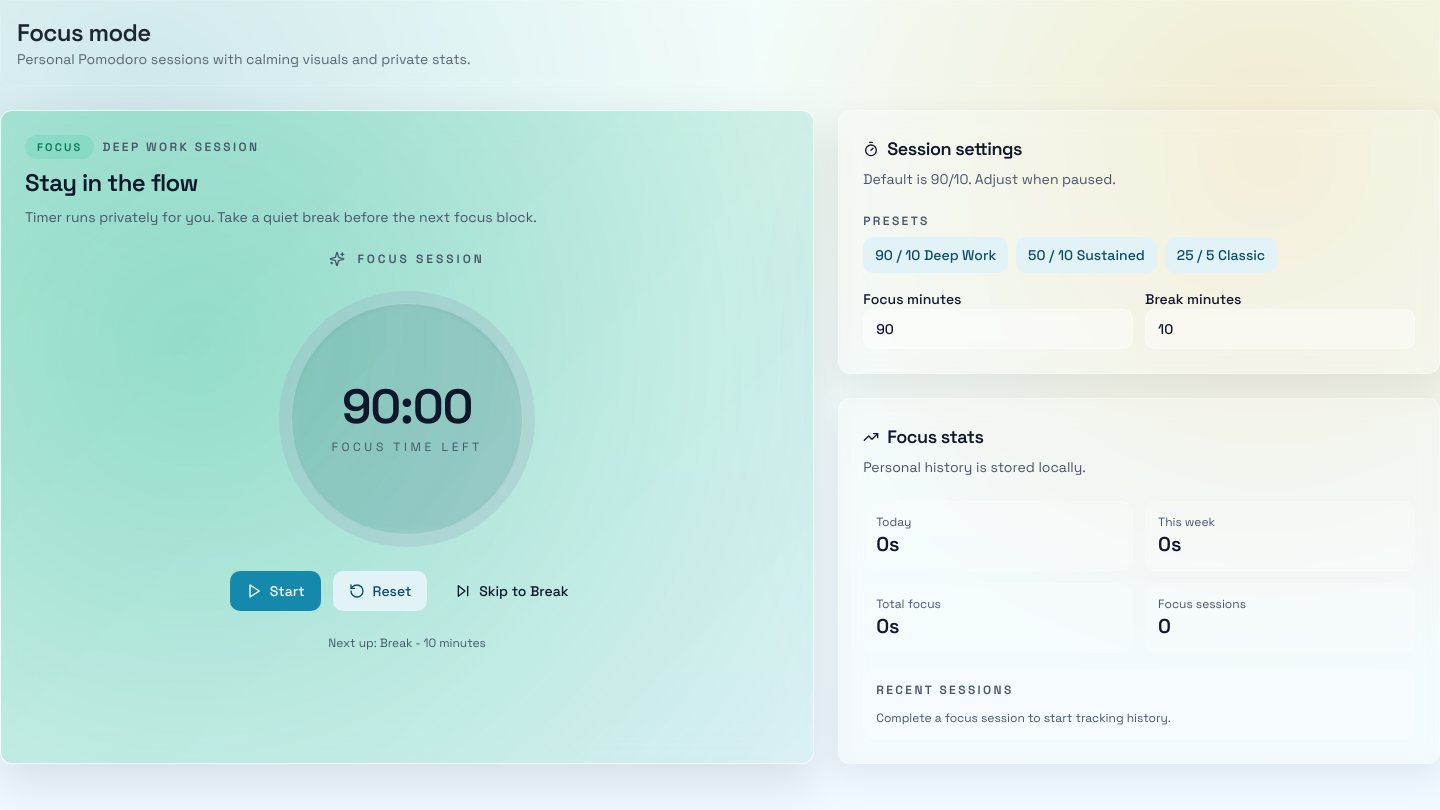
Test: FocusPage › does not duplicate completed sessions
Replace the text in the number field labelled "Focus minutes" with "1" at (998, 329), box [863,309,1133,349]
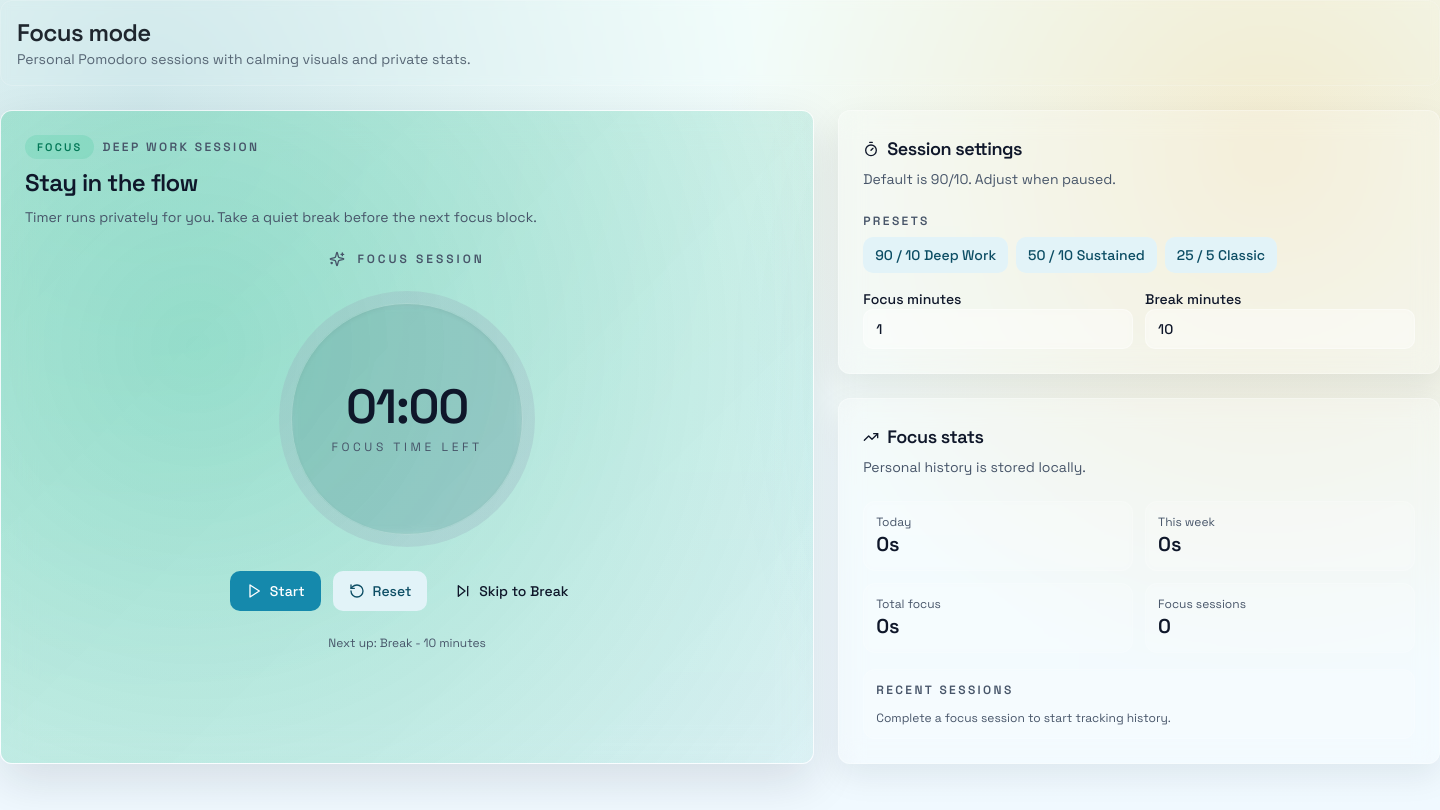
Click the button "Start".
click(275, 591)  # box [230,571,321,611]
Wait 60000 ms
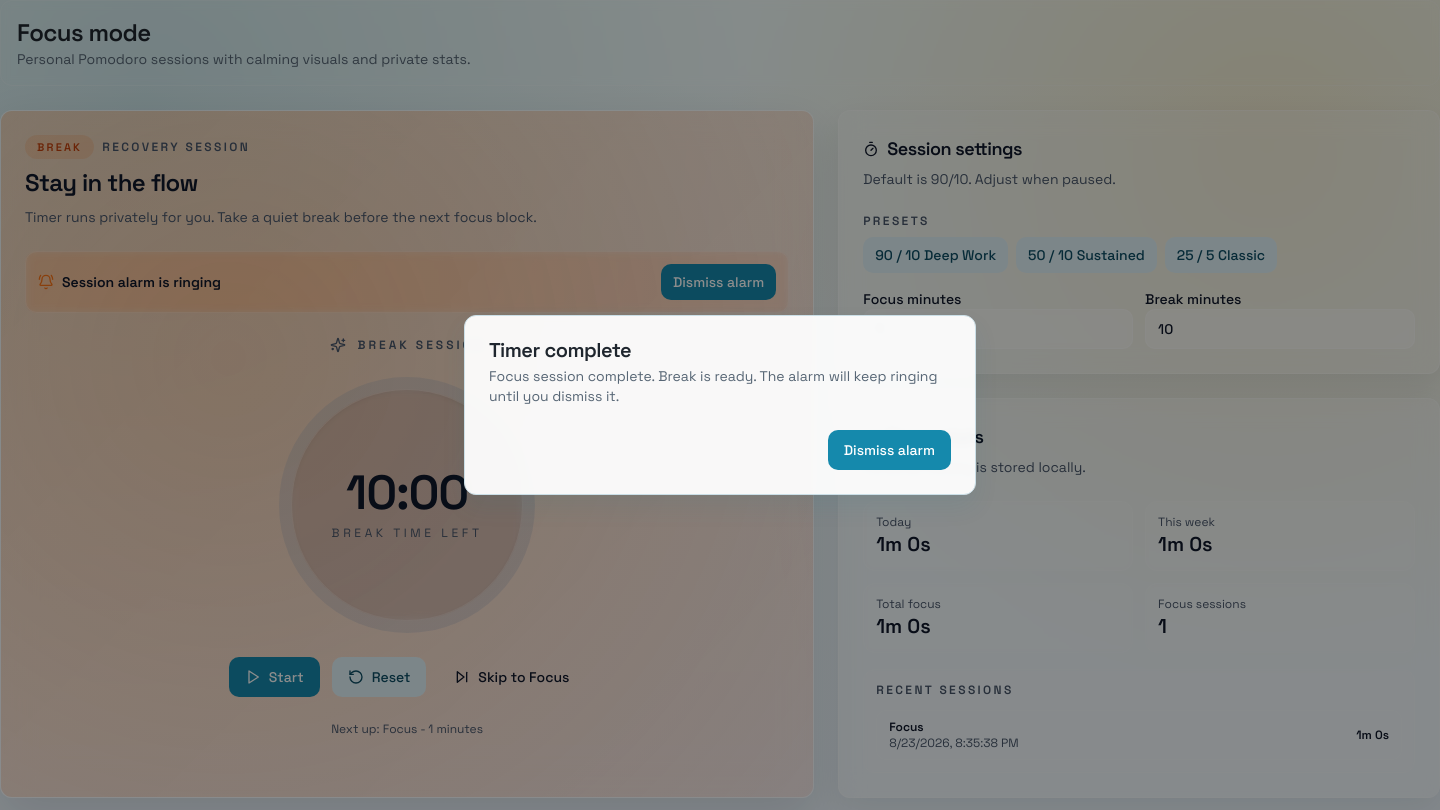
Expected: the text "focus" is shown once, [889,719,924,735]
